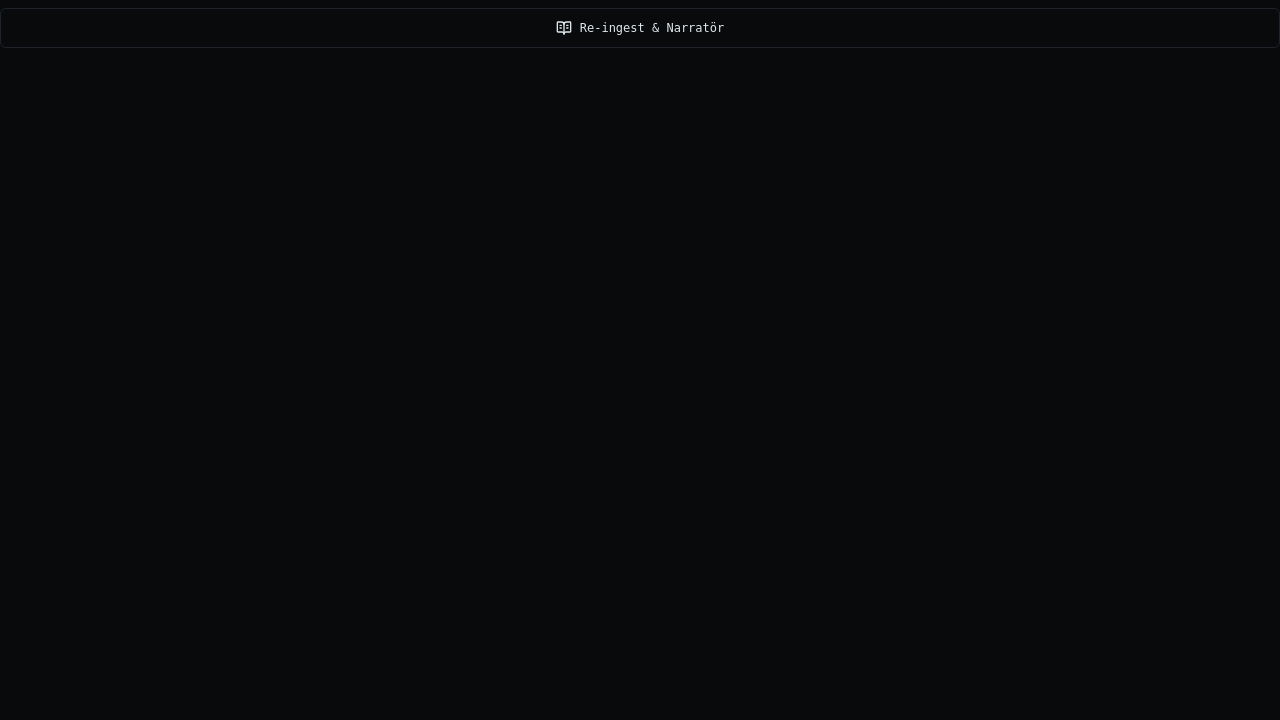
Test: Narrator repeated-update performance › does not reselect loaded fields on each answer edit
The width and height of the screenshot is (1280, 720).
Later steps or results of the test are not shown.
Click the button "Re-ingest & Narratör". click: [640, 28]
box: [0,8,1279,48]
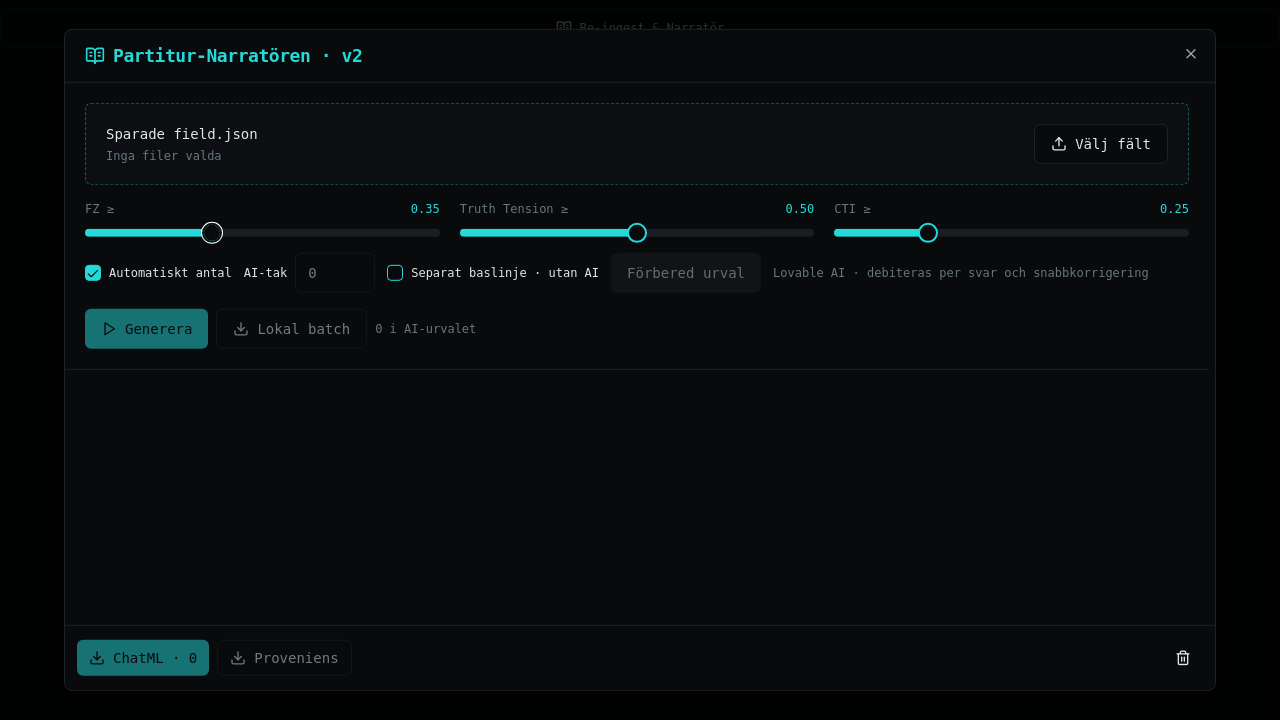
expect the button "Välj fält" is enabled: met, box [1034,124,1168,164]
